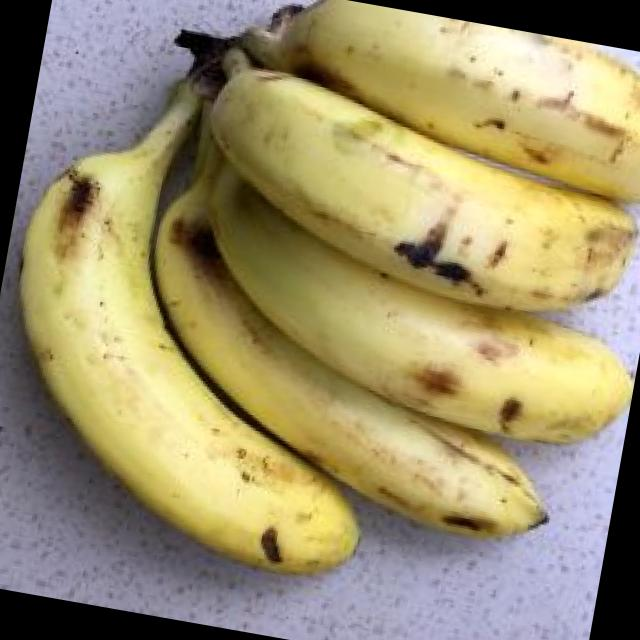banana: (0, 0, 530, 573)
